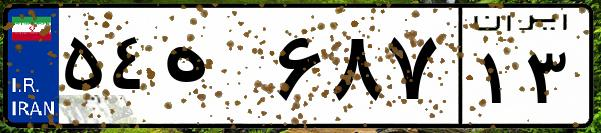1: (475, 38, 525, 113)
3: (525, 38, 570, 115)
4: (110, 28, 158, 98)
5: (57, 26, 110, 100)
6: (270, 28, 330, 110)
7: (385, 28, 445, 110)
8: (330, 28, 385, 110)
ه: (158, 20, 270, 120)
